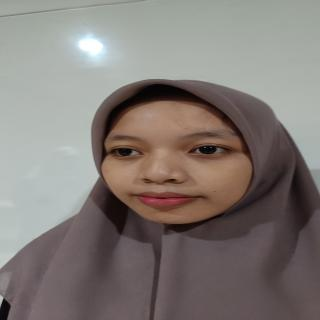Netral: (98, 96, 261, 231)
